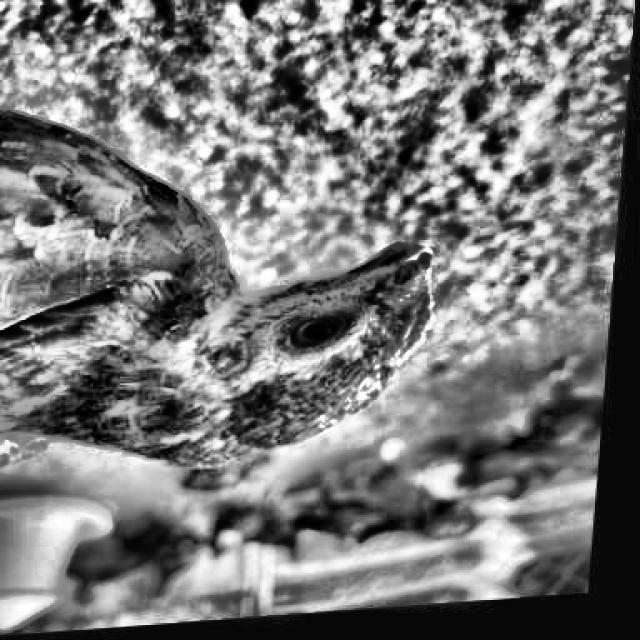Healthy: (272, 300, 365, 378)
